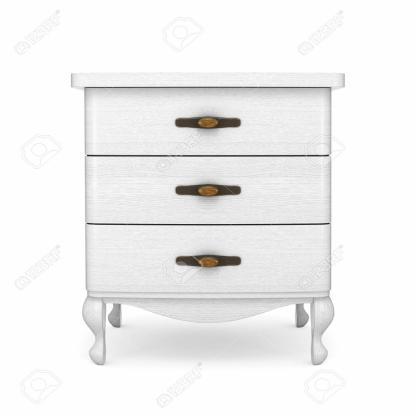table: (69, 70, 333, 370)
